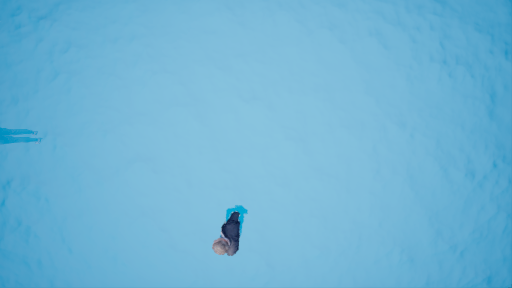person: (206, 205, 251, 259)
